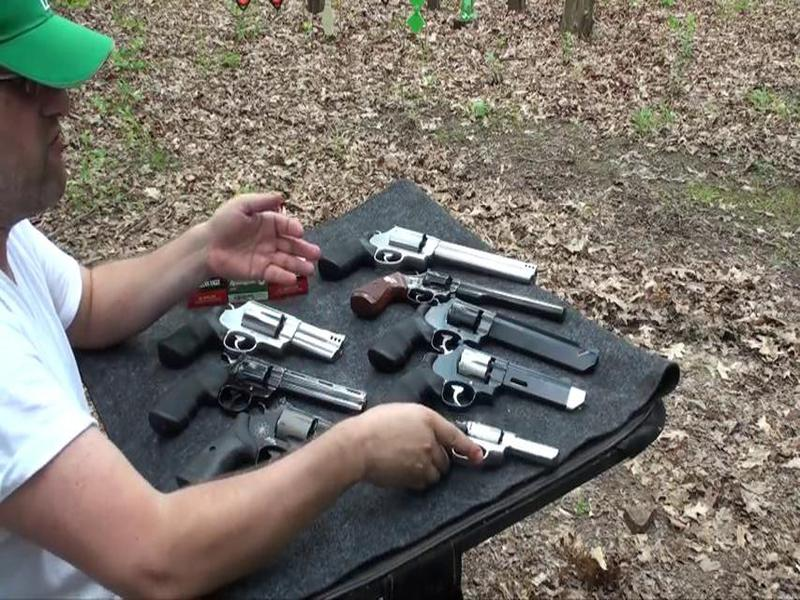Revolver: (347, 253, 587, 336)
